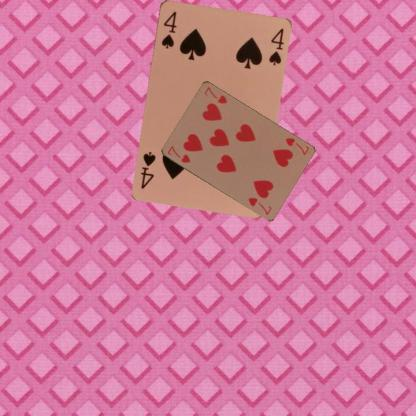4s: (158, 8, 178, 50)
7h: (283, 135, 310, 157), (165, 143, 191, 164)
